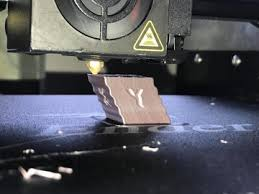fail: (82, 68, 178, 127)
